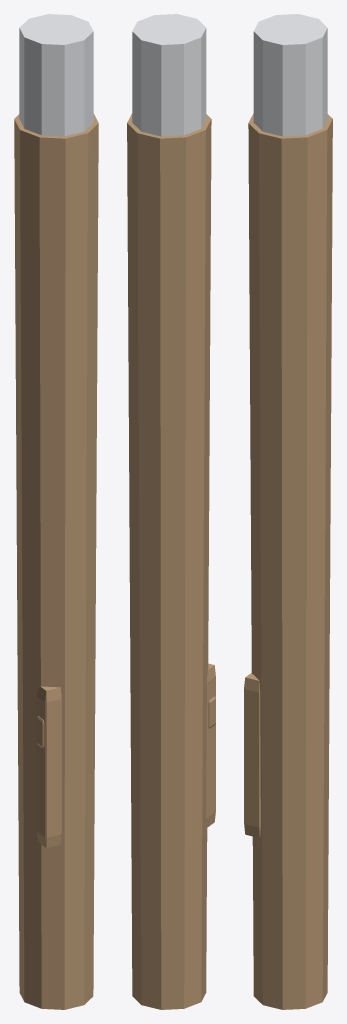
The model's file is b17_wooden_baseball_bat.glb.
3 views of the same model, side by side, from view 1: azimuth 30°, elevation 25°; view 2: azimuth 150°, elevation 25°; view 3: azimuth 330°, elevation 25° (orthographic).
Parts seen in each view (by area): view 1: b17_wooden_baseball_bat; view 2: b17_wooden_baseball_bat; view 3: b17_wooden_baseball_bat.
Part boxes in pixels (x1=…): b17_wooden_baseball_bat: x1=14, y1=14, x2=98, y2=1009; b17_wooden_baseball_bat: x1=127, y1=14, x2=215, y2=1009; b17_wooden_baseball_bat: x1=244, y1=14, x2=332, y2=1009.
Size of the model in its own units: 0.066 by 0.832 by 0.064.
